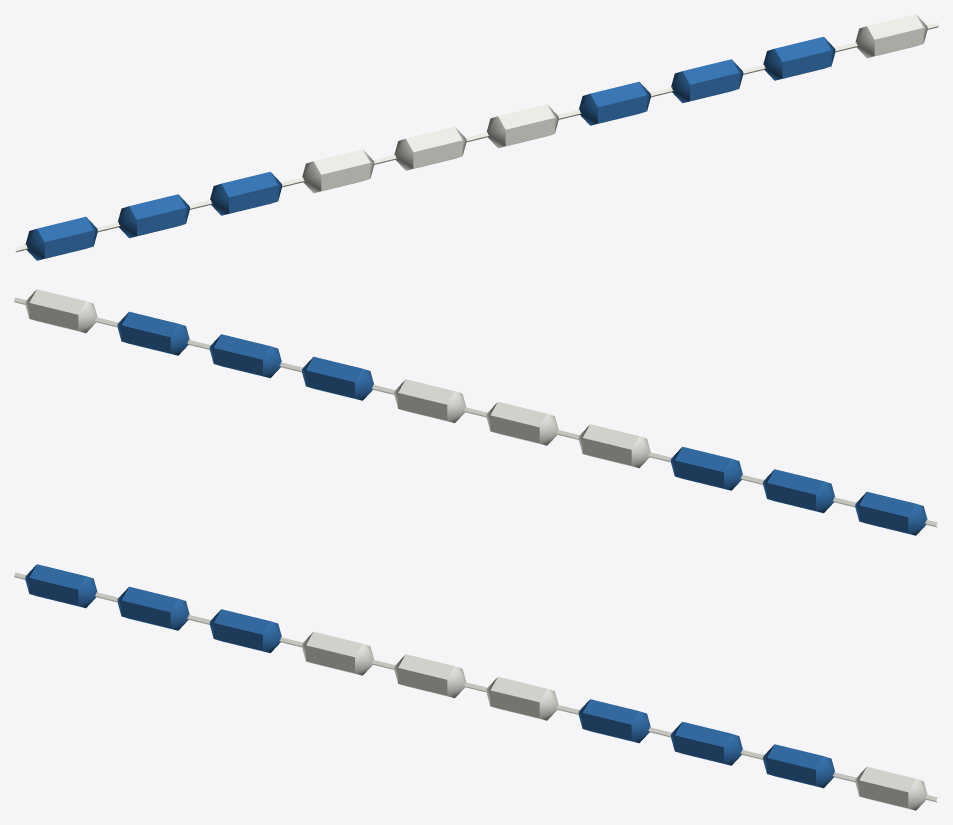
Rendered from lane_rope_lo.glb.
The picture shows the model from 3 angles, top to bottom: view 1: azimuth 30°, elevation 25°; view 2: azimuth 150°, elevation 25°; view 3: azimuth 330°, elevation 25°; orthographic projection.
Visible parts, largest first — view 1: LaneRopeLo; view 2: LaneRopeLo; view 3: LaneRopeLo.
Part boxes in pixels (x1,y1,x2,y2): LaneRopeLo: (15,14,938,260); LaneRopeLo: (14,289,937,535); LaneRopeLo: (14,564,937,810).
Size of the model in its own units: 3 by 0.1 by 0.0866.
